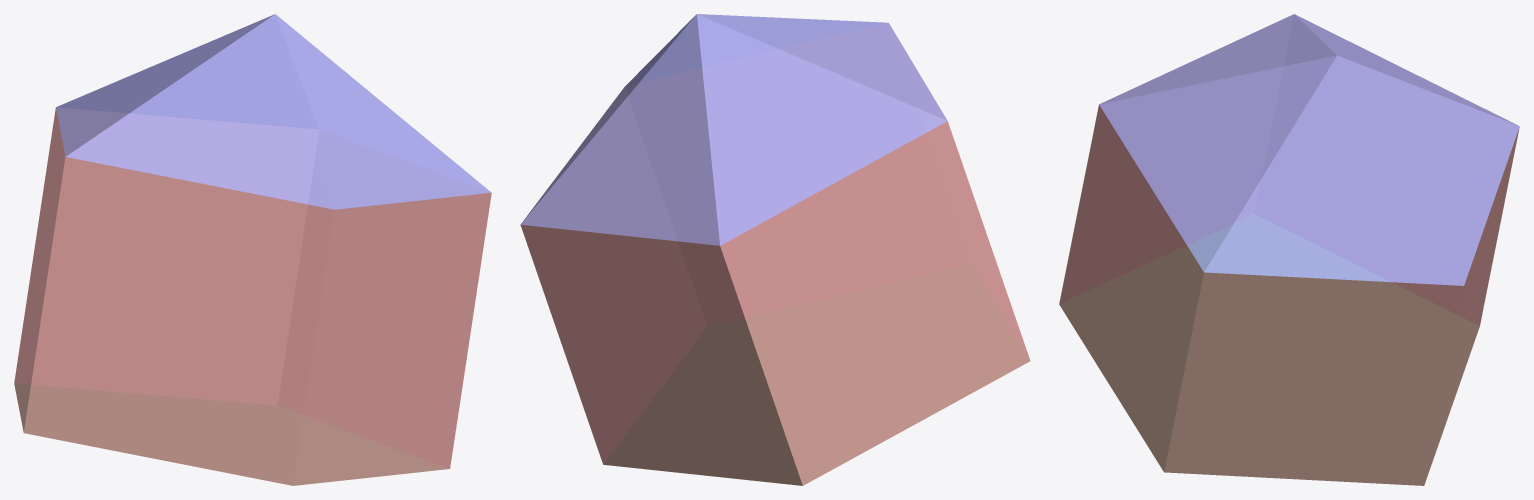
File: j9_elongated_pentagonal_pyramid.obj
3 views of the same model, side by side, from view 1: azimuth 30°, elevation 25°; view 2: azimuth 150°, elevation 25°; view 3: azimuth 270°, elevation 25° (orthographic). The views are drawn at different scales.
Bounding box in the file's own units: 1.82 × 1.73 × 1.77.
